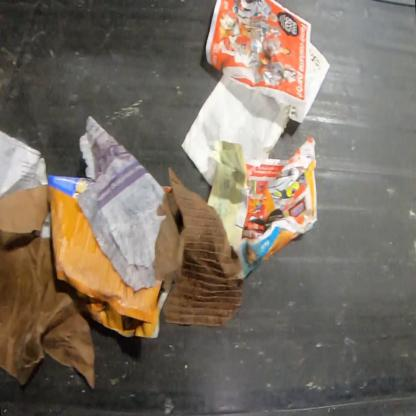cardboard: (51, 175, 168, 339), (154, 169, 242, 326)
